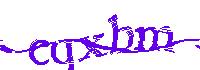b: (108, 10, 134, 56)
c: (29, 36, 53, 67)
m: (136, 25, 176, 53)
q: (51, 37, 75, 70)
x: (78, 33, 105, 61)
